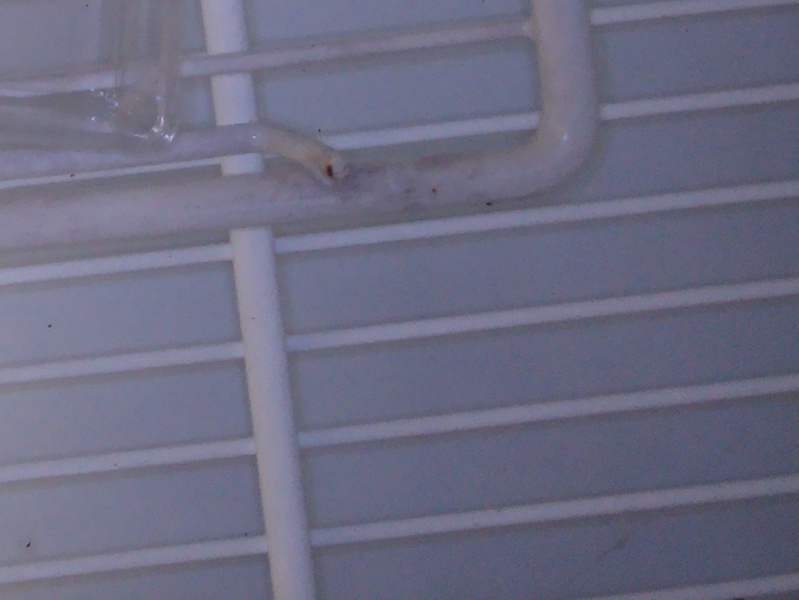plate: (1, 1, 188, 154)
